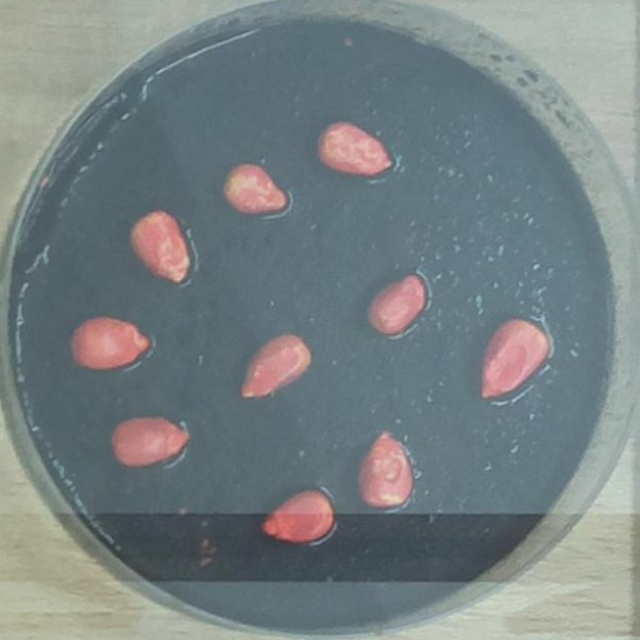Zea mays: (471, 311, 556, 406), (120, 202, 199, 293), (231, 326, 318, 405), (310, 112, 399, 185), (350, 423, 419, 516), (63, 309, 157, 376), (254, 482, 341, 553), (103, 407, 195, 473), (360, 267, 434, 340), (217, 154, 296, 219)
